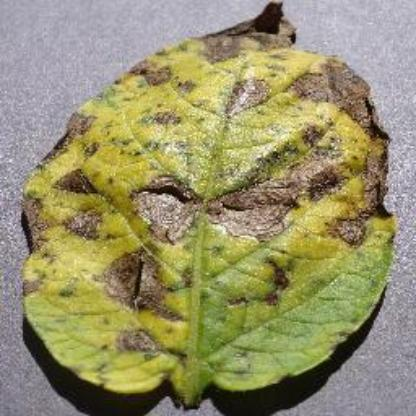Early-Blight: (17, 0, 416, 416)
